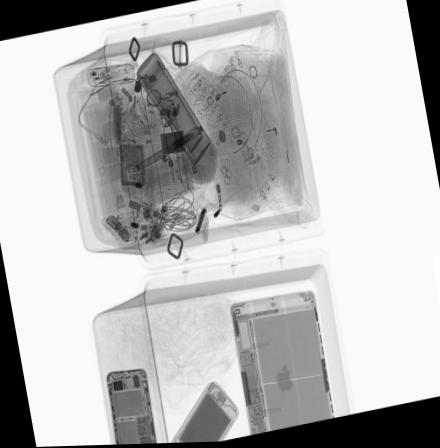Powerbank: (166, 376, 241, 444)
